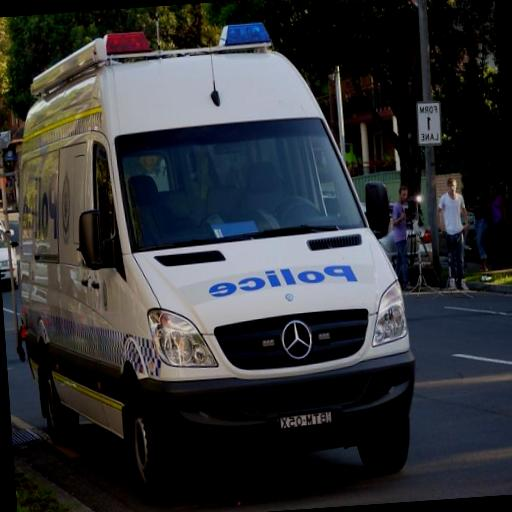Ambulance: (0, 7, 415, 506)
